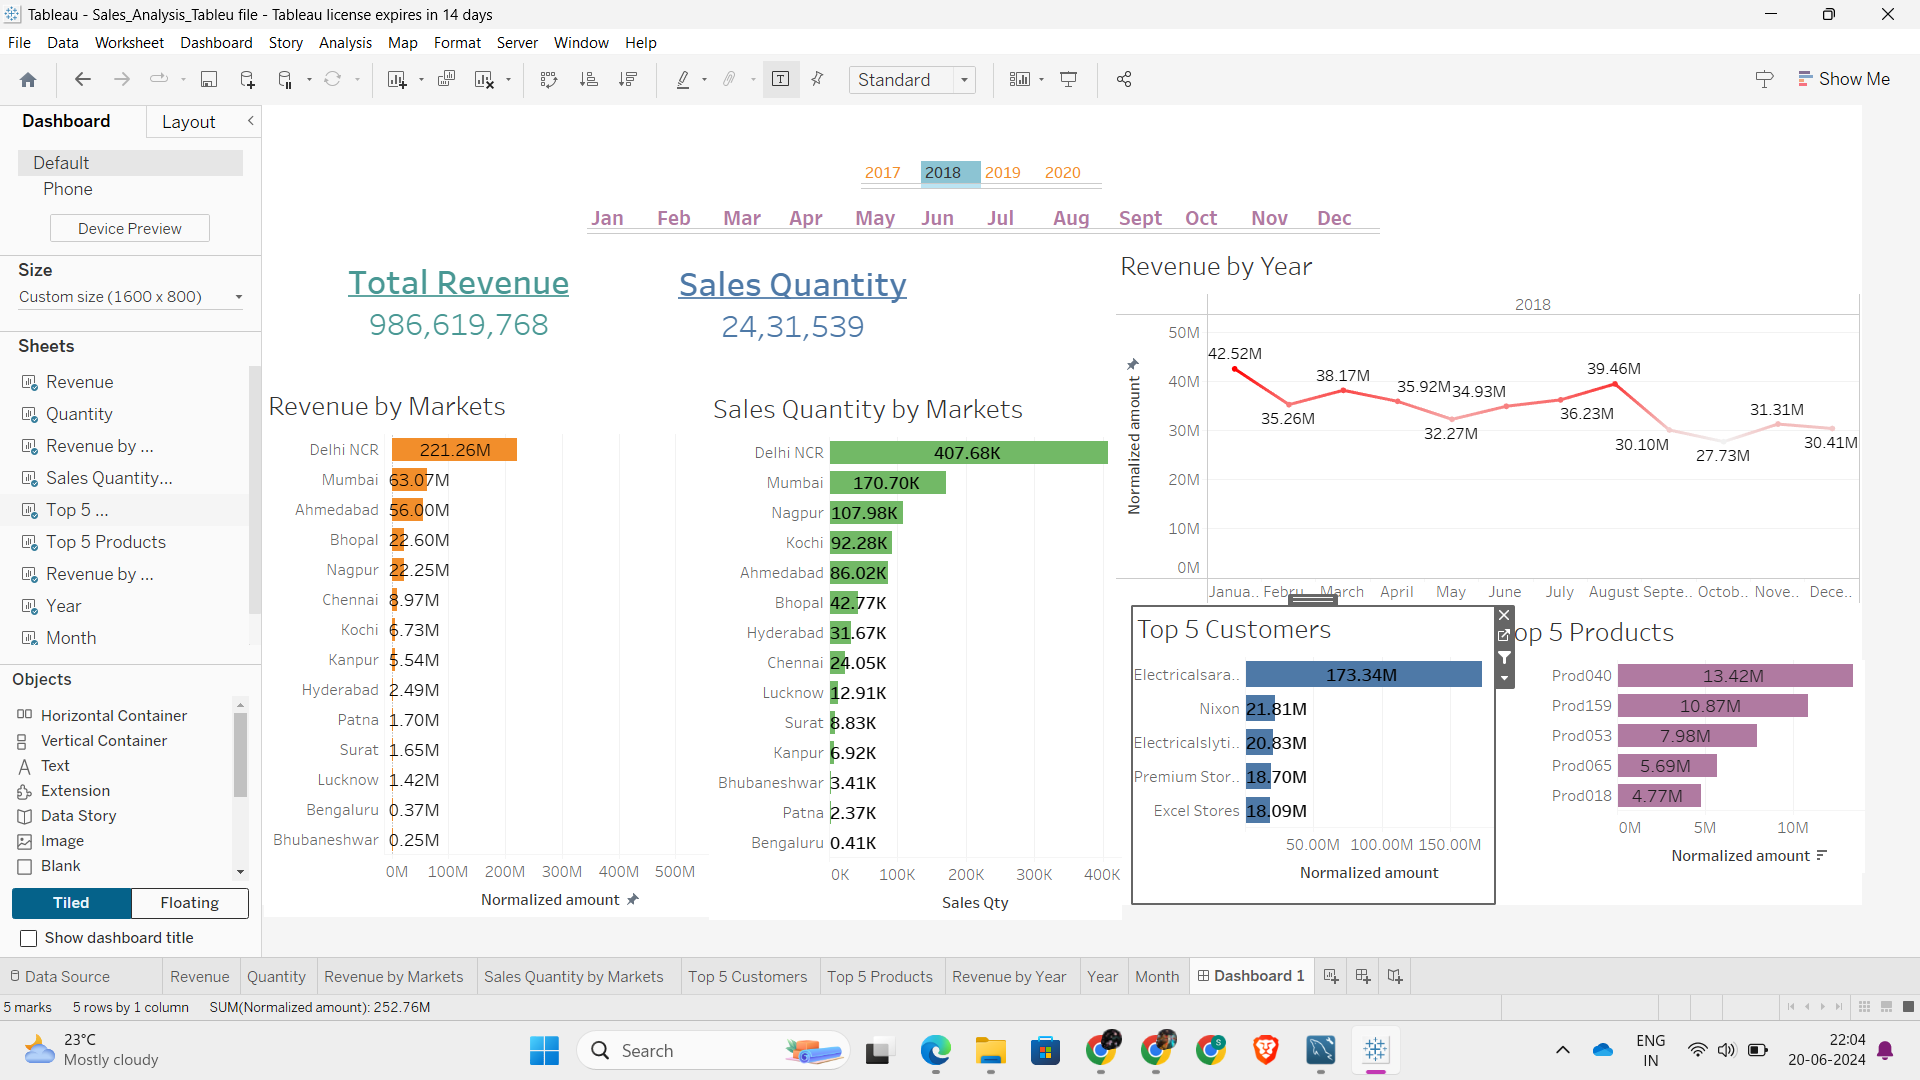

The page's visual inventory and layout, read from the dashboard file:
{"tool":"tableau","page":{"name":"Dashboard 1","canvas":[1600,800],"ordinal":0},"visuals":[{"type":"worksheet","title":"Year","mark":"Automatic","cols":["cy_date"],"box":[599,6,252,82]},{"type":"worksheet","title":"Month","mark":"Automatic","cols":["cy_date"],"box":[325,86,797,55]},{"type":"worksheet","title":"Revenue by Year","mark":"Automatic","rows":["Calculation_655555251710291968"],"cols":["cy_date","cy_date"],"box":[854,139,744,360]},{"type":"worksheet","title":"Revenue","mark":"Automatic","box":[77,152,287,119]},{"type":"worksheet","title":"Quantity","mark":"Automatic","box":[411,154,280,115]},{"type":"worksheet","title":"Top 5 Customers","mark":"Automatic","rows":["custmer_name"],"cols":["Calculation_655555251710291968"],"box":[871,502,361,298]},{"type":"worksheet","title":"Top 5 Products","mark":"Automatic","rows":["product_code (products)"],"cols":["Calculation_655555251710291968"],"box":[1235,505,368,275]}]}

Visuals, with their boxes on the page's 1600x800 design canvas (x1, y1, x2, y2). These are canvas units, not pixel positions in the 1920x1080 screenshot, which may show the page scaled, cropped or inside an application window:
"Year" worksheet: box(599, 6, 851, 88)
"Month" worksheet: box(325, 86, 1122, 141)
"Revenue by Year" worksheet: box(854, 139, 1598, 499)
"Revenue" worksheet: box(77, 152, 364, 271)
"Quantity" worksheet: box(411, 154, 691, 269)
"Top 5 Customers" worksheet: box(871, 502, 1232, 800)
"Top 5 Products" worksheet: box(1235, 505, 1603, 780)
